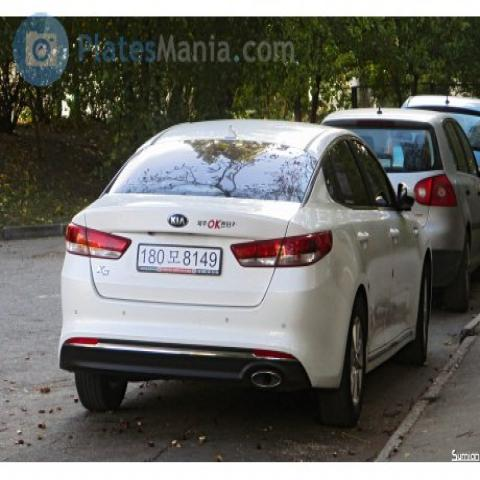LP: (131, 234, 234, 286)
